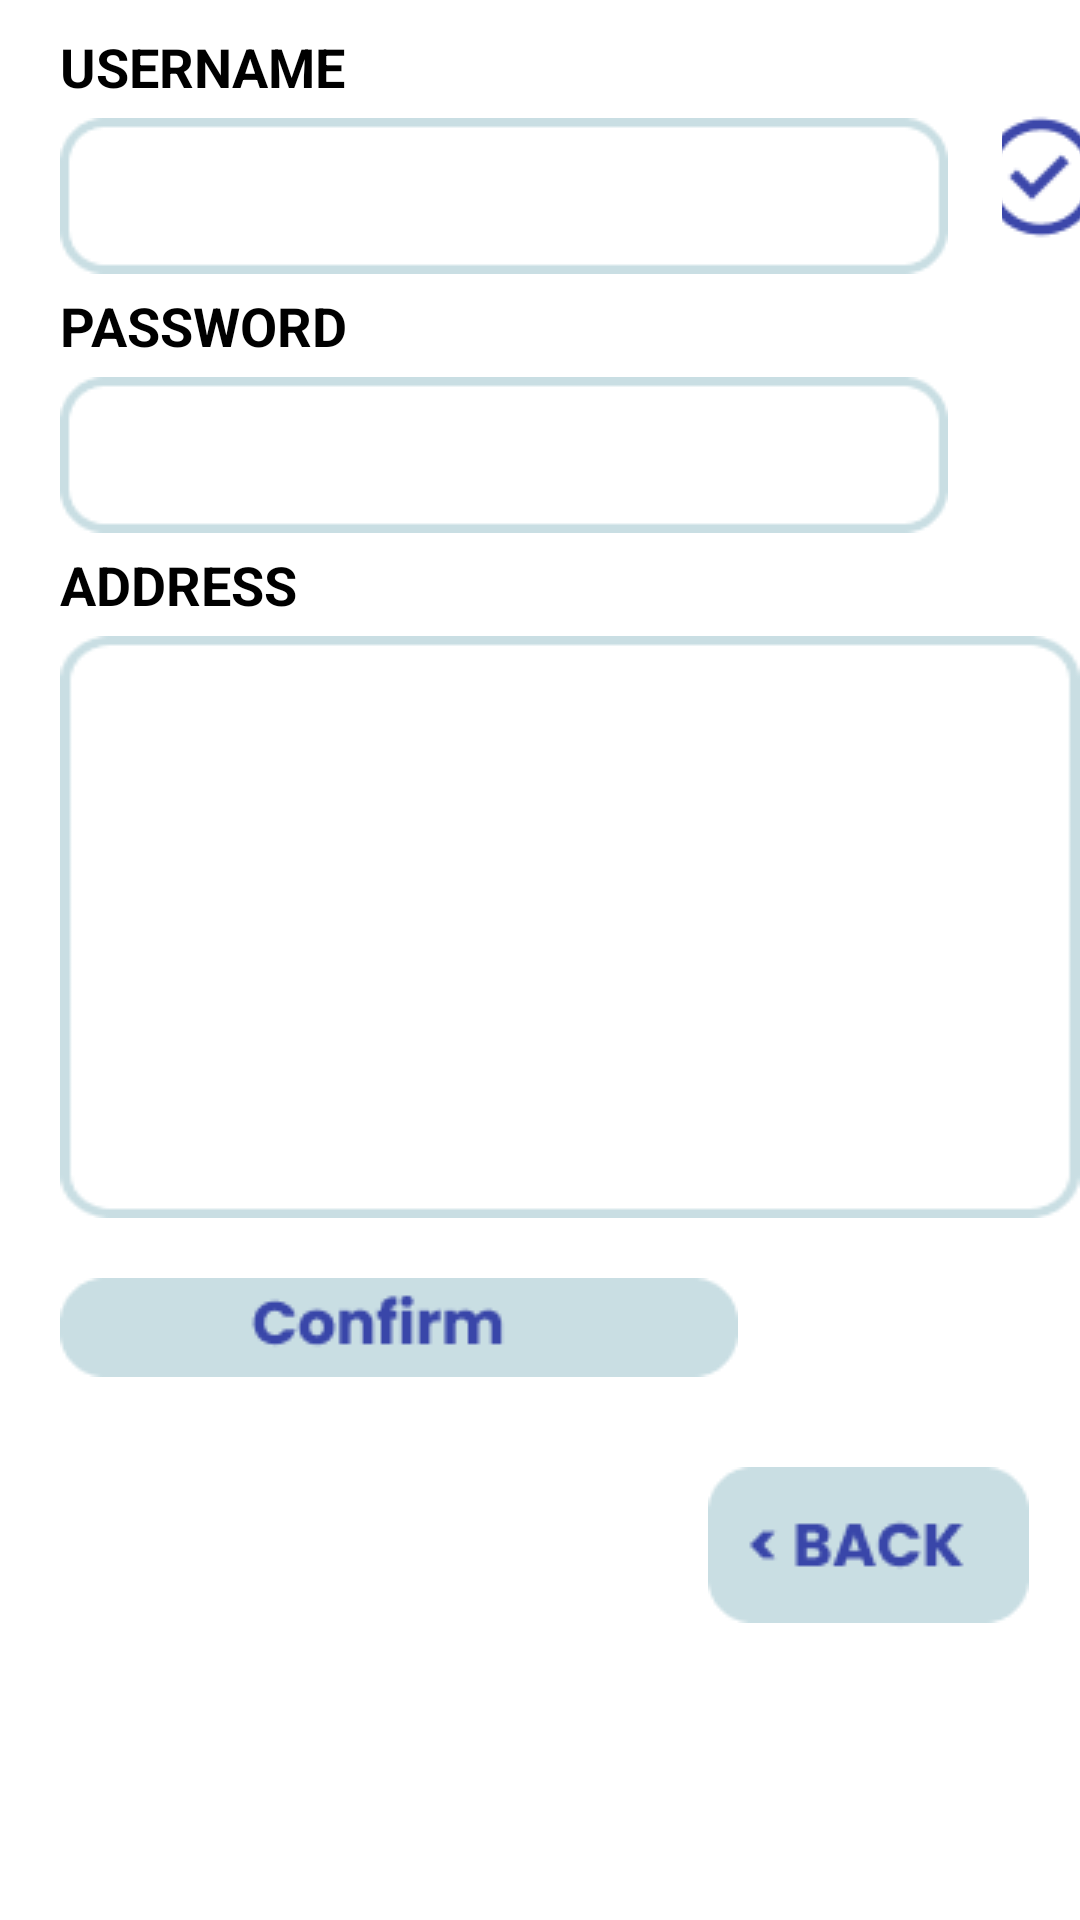

Screen size 1080x1920. Icon name, then its center in pixels as (x=x, y=y):
check: (x=1041, y=177)
